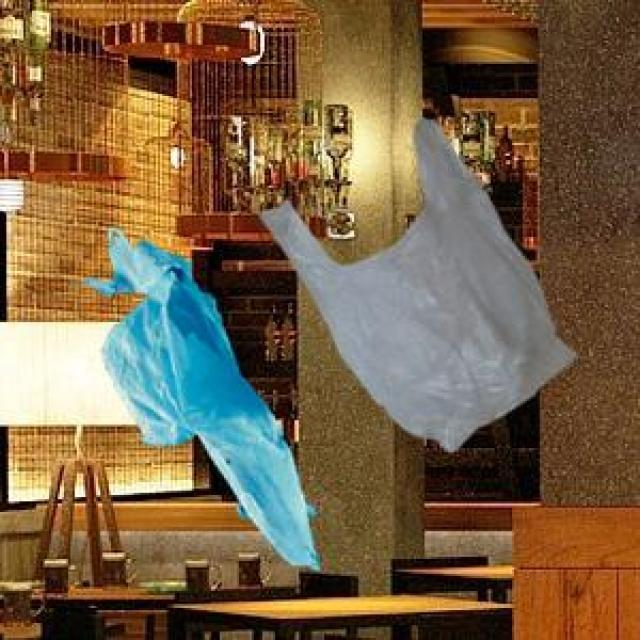waste: (261, 119, 576, 451), (88, 230, 319, 568)
